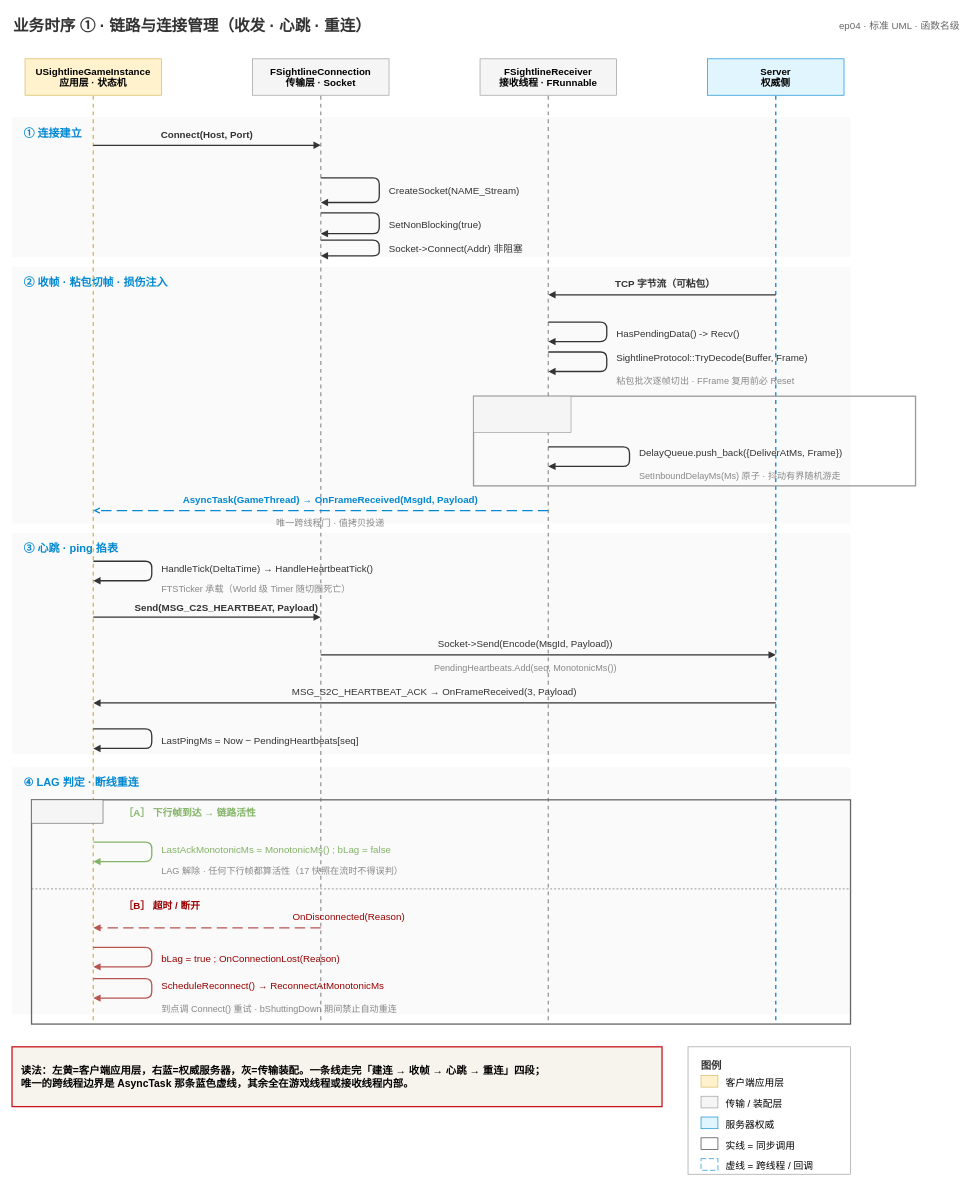
Image size: 972x1186. Some labels were removed from this diagram. The centre of each missing label's shape, as x and y in pixels:
alt: the point at 67,811
opt ［损伤滑块］: the point at 522,414
